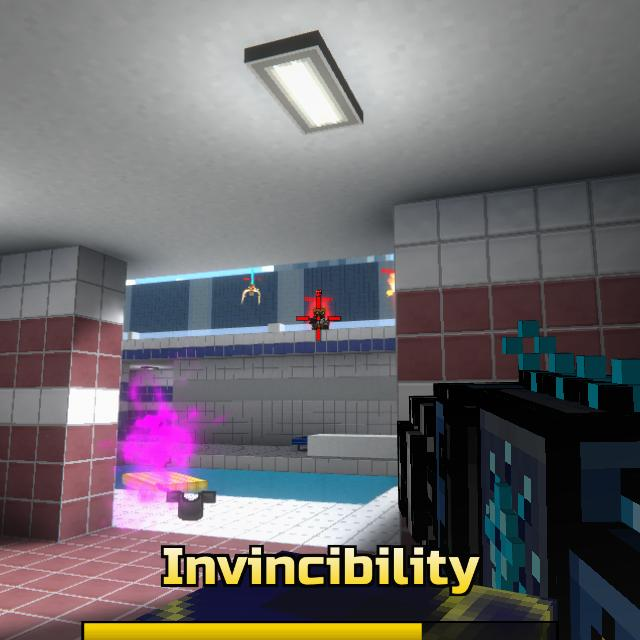Enemy: (308, 306, 330, 333)
